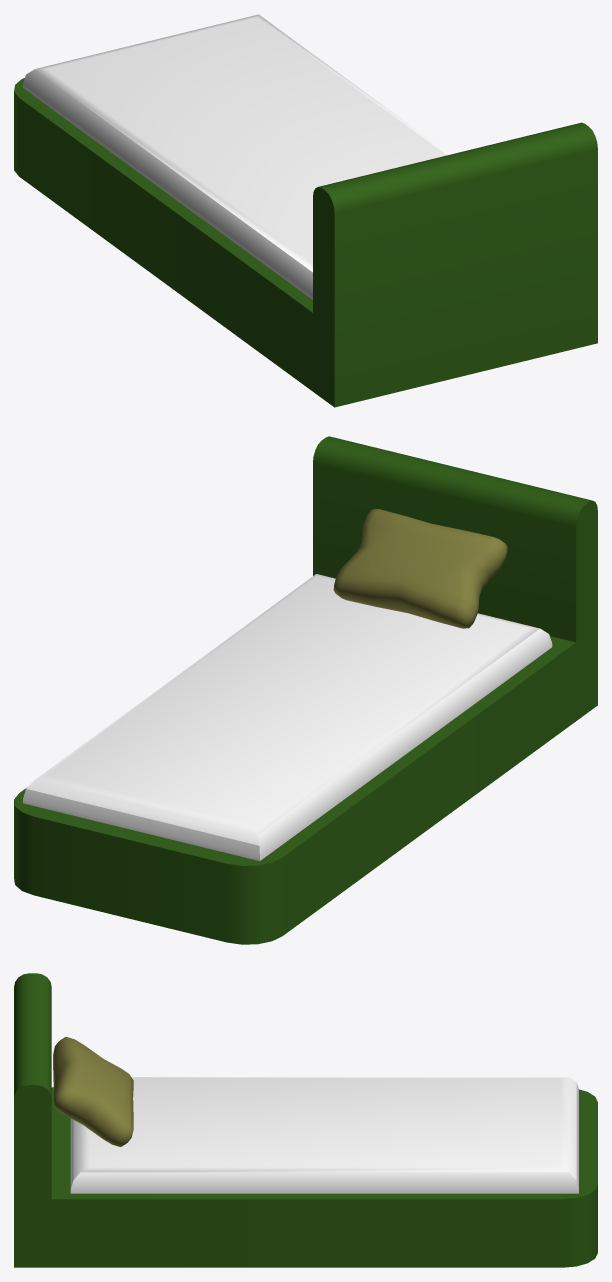
Rendered from Bed_2.fbx.
3 renders of one model, top to bottom at view 1: azimuth 30°, elevation 25°; view 2: azimuth 150°, elevation 25°; view 3: azimuth 270°, elevation 25°, orthographic. The views are drawn at different scales.
Visible parts, largest first — view 1: Carcass, Mattress; view 2: Carcass, Mattress, Pillow; view 3: Mattress, Carcass, Pillow.
Boxes of the visible parts, x1,y1,x2,y2 form: Carcass: [14, 78, 597, 407]; Mattress: [23, 14, 449, 299]; Carcass: [14, 436, 597, 944]; Mattress: [23, 574, 552, 860]; Pillow: [333, 509, 507, 628]; Mattress: [70, 1077, 578, 1193]; Carcass: [14, 973, 597, 1267]; Pillow: [53, 1037, 133, 1146].
Size of the model in its own units: 144 by 110 by 318.
